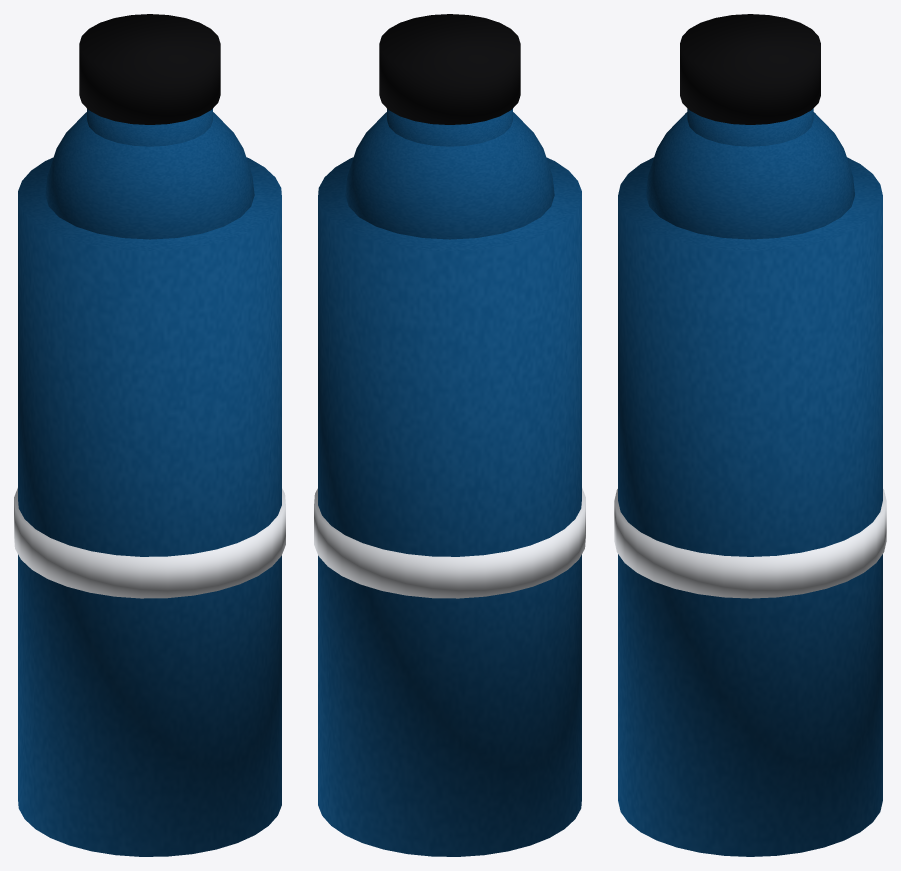
The model's file is botella.obj.
The picture shows the model from 3 angles, left to right: view 1: azimuth 30°, elevation 25°; view 2: azimuth 150°, elevation 25°; view 3: azimuth 270°, elevation 25°; orthographic projection.
Visible parts, largest first — view 1: Botella_Cuerpo, Botella_Hombro, Botella_Tapa, Botella_Banda, Botella_Cuello; view 2: Botella_Cuerpo, Botella_Hombro, Botella_Tapa, Botella_Banda, Botella_Cuello; view 3: Botella_Cuerpo, Botella_Hombro, Botella_Tapa, Botella_Banda, Botella_Cuello.
Part boxes in pixels (box(x1,y1,x2,y2)): Botella_Cuerpo: box(18, 157, 281, 856); Botella_Hombro: box(45, 112, 254, 239); Botella_Tapa: box(79, 14, 220, 124); Botella_Banda: box(14, 488, 285, 598); Botella_Cuello: box(87, 109, 212, 146); Botella_Cuerpo: box(318, 157, 581, 856); Botella_Hombro: box(345, 112, 554, 239); Botella_Tapa: box(379, 14, 520, 124); Botella_Banda: box(314, 488, 585, 598); Botella_Cuello: box(387, 109, 512, 146); Botella_Cuerpo: box(618, 157, 882, 856); Botella_Hombro: box(646, 112, 854, 239); Botella_Tapa: box(680, 14, 820, 124); Botella_Banda: box(614, 489, 886, 598); Botella_Cuello: box(687, 108, 813, 146).
Size of the model in its own units: 0.216 by 0.6625 by 0.216.
Materials: 3 (1 with a texture image).
